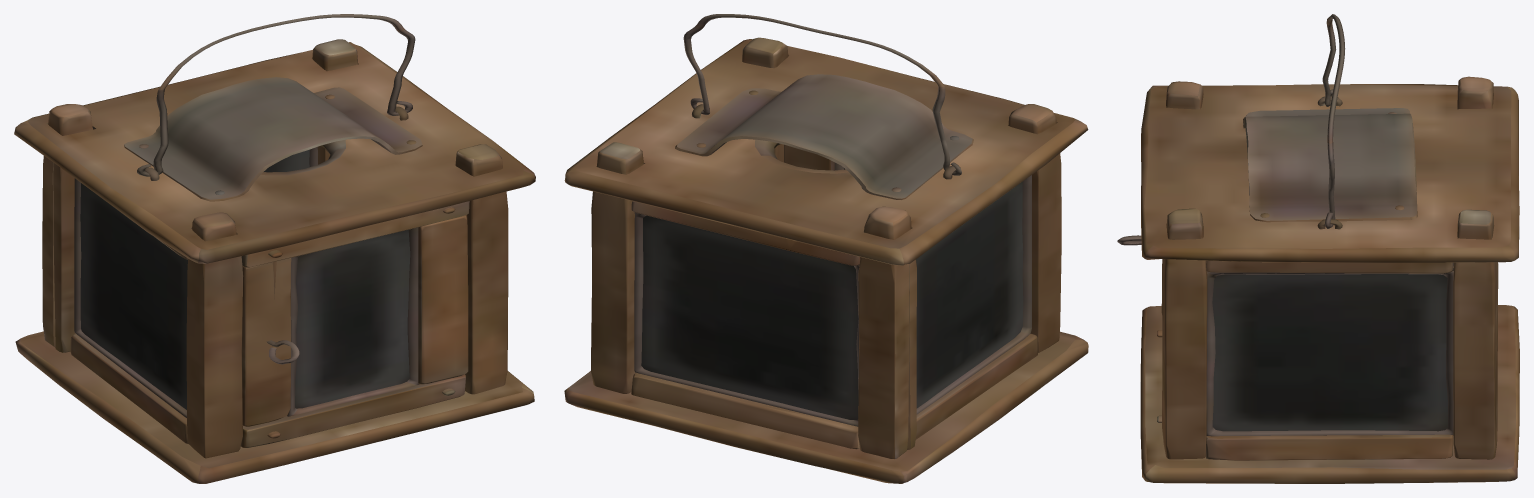
File: ph-wooden-lantern-01.glb
The picture shows the model from 3 angles, left to right: view 1: azimuth 30°, elevation 25°; view 2: azimuth 150°, elevation 25°; view 3: azimuth 270°, elevation 25°; orthographic projection.
Parts seen in each view (by area): view 1: wooden_lantern_01; view 2: wooden_lantern_01; view 3: wooden_lantern_01.
Boxes of the visible parts, x1,y1,x2,y2 form: wooden_lantern_01: (14,14,535,483); wooden_lantern_01: (564,14,1088,483); wooden_lantern_01: (1117,14,1519,483).
Bounding box in the file's own units: 1 × 1 × 1.
Materials: 2 (2 with a texture image).
